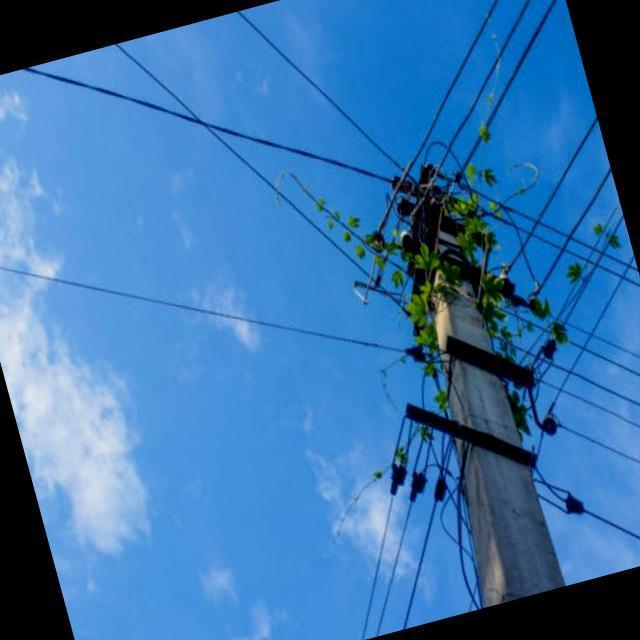critical vegetation: (362, 178, 534, 388)
